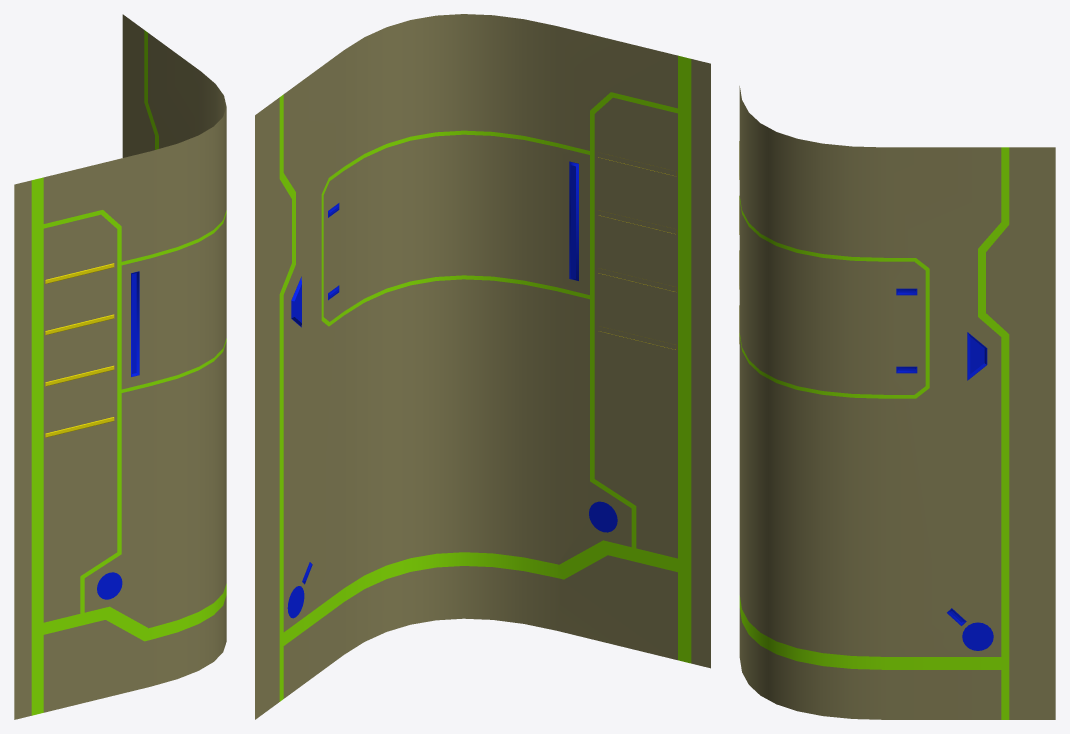
The model's file is Building_Wall_02i_snaps016.fbx.
3 renders of one model, left to right at view 1: azimuth 30°, elevation 25°; view 2: azimuth 150°, elevation 25°; view 3: azimuth 270°, elevation 25°, orthographic. The views are drawn at different scales.
Parts seen in each view (by area): view 1: Building_Wall_02i_snaps016_LOD0; view 2: Building_Wall_02i_snaps016_LOD0; view 3: Building_Wall_02i_snaps016_LOD0.
Part boxes in pixels (<box>): Building_Wall_02i_snaps016_LOD0: <box>14,14,226,719</box>; Building_Wall_02i_snaps016_LOD0: <box>255,14,710,719</box>; Building_Wall_02i_snaps016_LOD0: <box>739,86,1055,719</box>.
Size of what is drawn, in the model's own units: 3 by 6 by 3.
